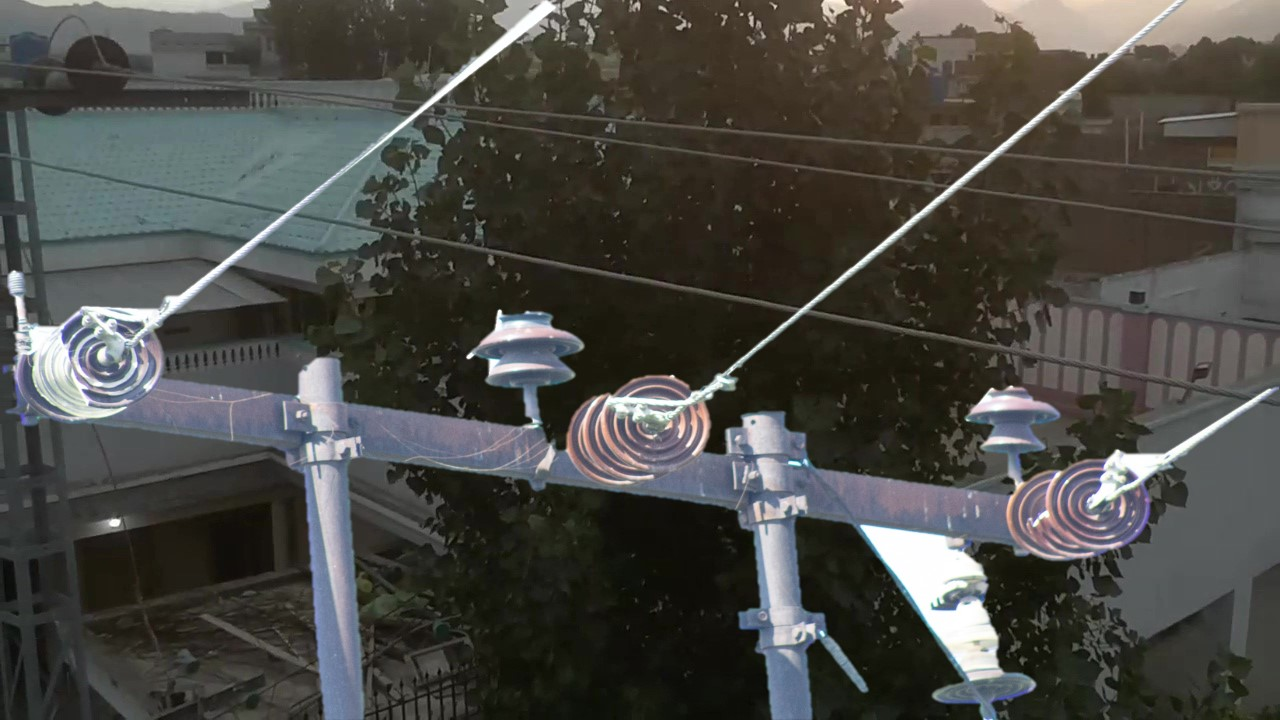defect_disc: (57, 301, 170, 415)
insulator_disc: (594, 363, 717, 478), (1045, 451, 1162, 553)
